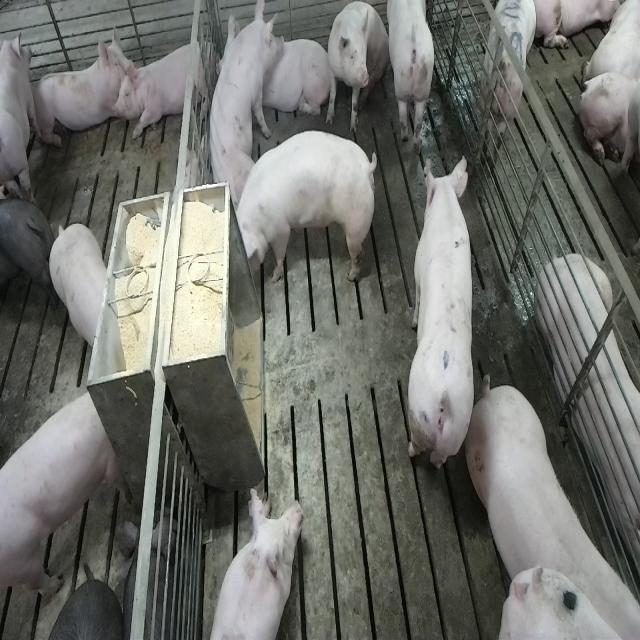Sitting: (205, 0, 282, 196), (324, 1, 388, 129)
Standing: (2, 386, 122, 617), (406, 154, 478, 479), (478, 2, 536, 158), (48, 224, 108, 354), (387, 2, 438, 154), (0, 190, 56, 316), (0, 25, 32, 204)
Sternal_lying: (538, 249, 640, 582), (204, 489, 302, 640), (30, 34, 130, 150), (116, 29, 216, 141), (258, 24, 330, 122)
